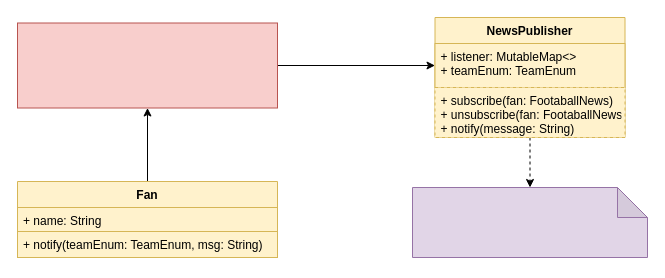
Image size: 665x278. Some labels were removed from this diagram. Each missing label, with the centre of its shape:
"<<Interface>> NewsSubscriber + notify(teamEnum: TeamEnum, msg: String)" belongs at (147,65).
"notify(message) for (observer in observersList) observer.notify(message)" belongs at (530,222).
